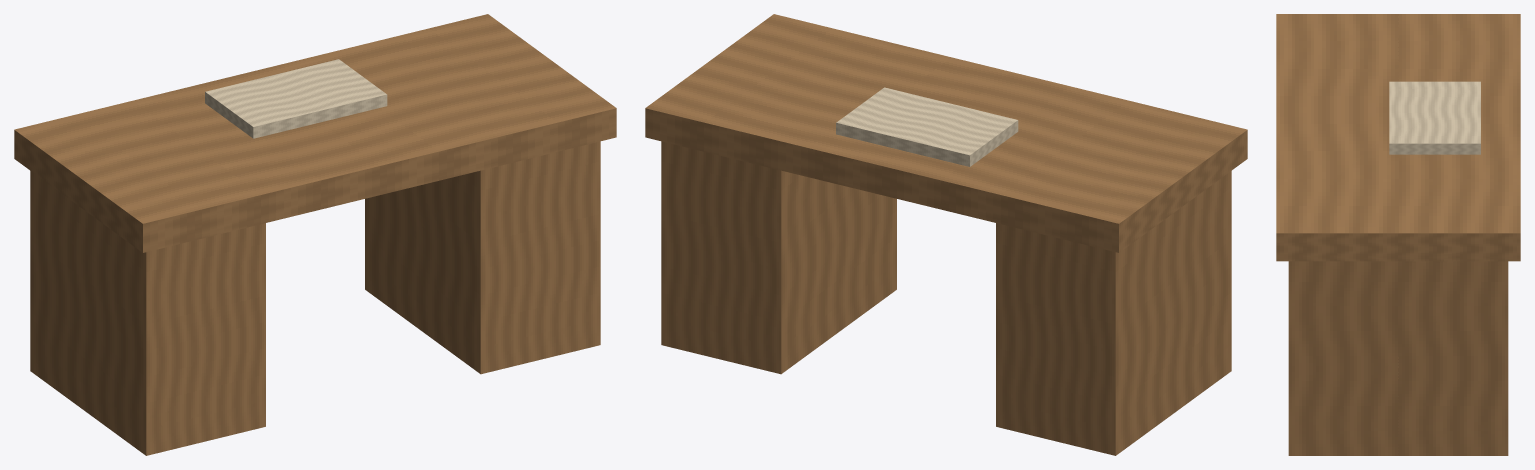
The picture shows the model from 3 angles, left to right: view 1: azimuth 30°, elevation 25°; view 2: azimuth 150°, elevation 25°; view 3: azimuth 270°, elevation 25°; orthographic projection. The views are drawn at different scales.
Visible parts, largest first — view 1: Stationsschreibtisch; view 2: Stationsschreibtisch; view 3: Stationsschreibtisch.
Boxes of the visible parts, box(x1,y1,x2,y2) form: Stationsschreibtisch: box(14, 14, 616, 455); Stationsschreibtisch: box(645, 14, 1247, 455); Stationsschreibtisch: box(1276, 14, 1520, 455).
Size of the model in its own units: 1.7 by 0.86 by 0.8.
Materials: 2 (2 with a texture image).
